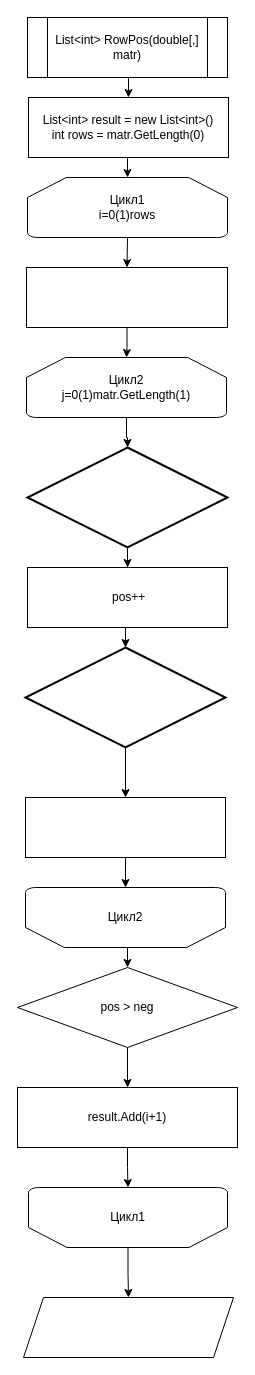
Image size: 255x1375. Some labels were removed from this diagram. The shapes that lost their labels are listed below. From the top down, each one's centre as x and y in pixels, then its label:
At point 127,297: "int pos = 0; int neg = 0;".
At point 127,497: "matr[i, j] > 0".
At point 125,697: "matr[i, j] < 0".
At point 125,827: "neg++".
At point 128,1327: "Вывод result".
